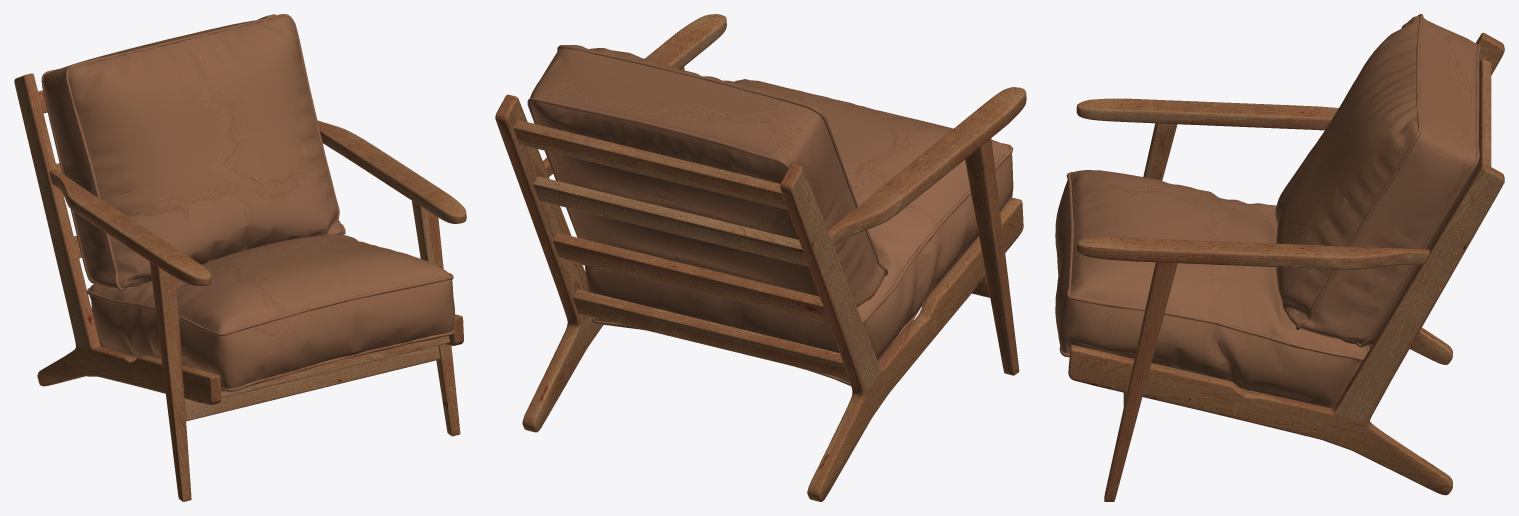
3 renders of one model, left to right at view 1: azimuth 30°, elevation 25°; view 2: azimuth 150°, elevation 25°; view 3: azimuth 270°, elevation 25°, orthographic. The views are drawn at different scales.
Visible parts, largest first — view 1: Pillows, Base; view 2: Pillows, Base; view 3: Pillows, Base.
Boxes of the visible parts, left/top/right/bottom form: Pillows: left=41, top=14, right=454, bottom=391; Base: left=14, top=14, right=466, bottom=501; Pillows: left=527, top=45, right=1013, bottom=385; Base: left=495, top=14, right=1026, bottom=501; Pillows: left=1055, top=14, right=1480, bottom=408; Base: left=1068, top=32, right=1504, bottom=501.
Size of the model in its own units: 0.7038 by 0.775 by 0.8818.
2 materials, 2 textured.
